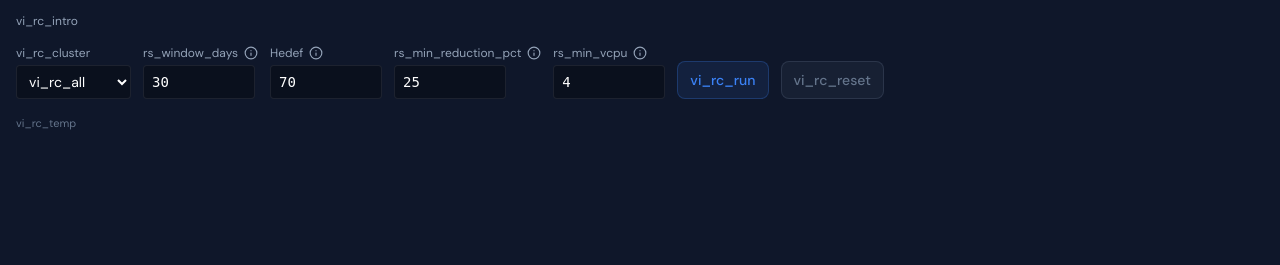
Geri kazanım simülasyonu › eşikler politikadan dolar; değiştirilen eşik istekte gider, politika kaydedilmez
Check: the text "Hedef" is shown, box [270,45,323,61]
Replace the text in the number field below "Hedef" with "60" at (326, 82), box [270,65,382,99]
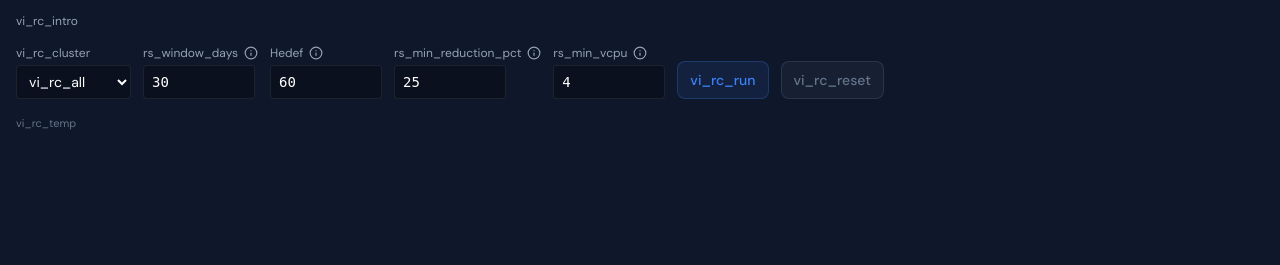
Select "PROD · vc01" in the dropdown with test id "rc-cluster" at (74, 82), box [16,65,131,99]
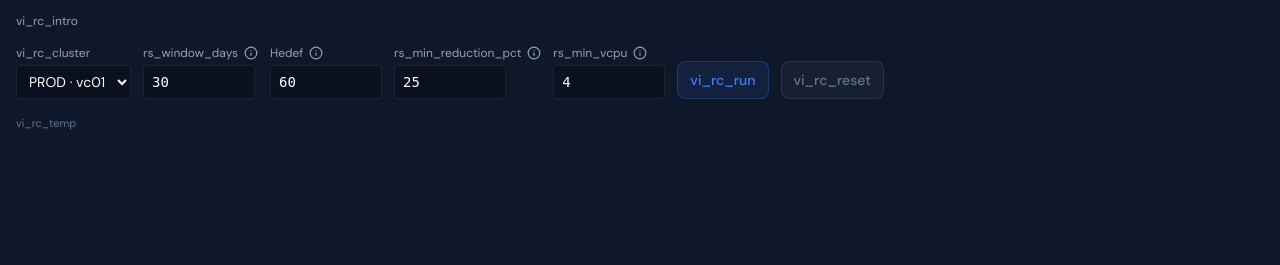
Click the button "vi_rc_run" at (723, 80), box [677,61,768,99]
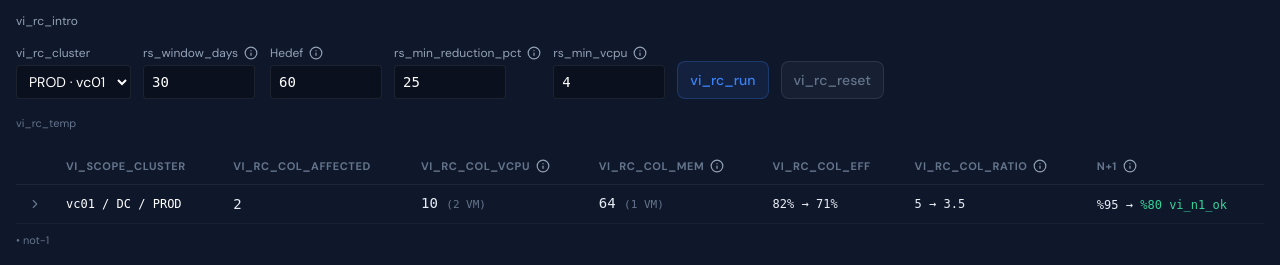
Check: the element with test id "rc-result" is shown, box [16,148,1264,248]
